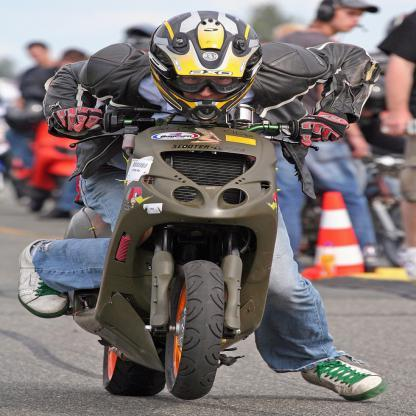motorcycle: (75, 95, 331, 356)
